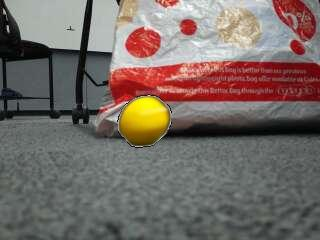lemon: (119, 98, 169, 146)
